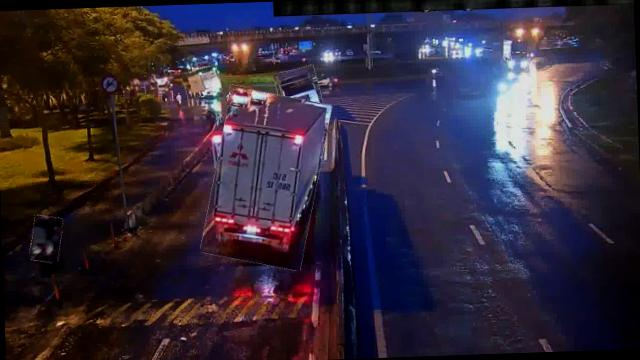Bike: (29, 216, 63, 264)
Car: (226, 85, 252, 109)
Truck: (204, 88, 328, 270), (276, 66, 324, 127), (182, 66, 221, 98)
